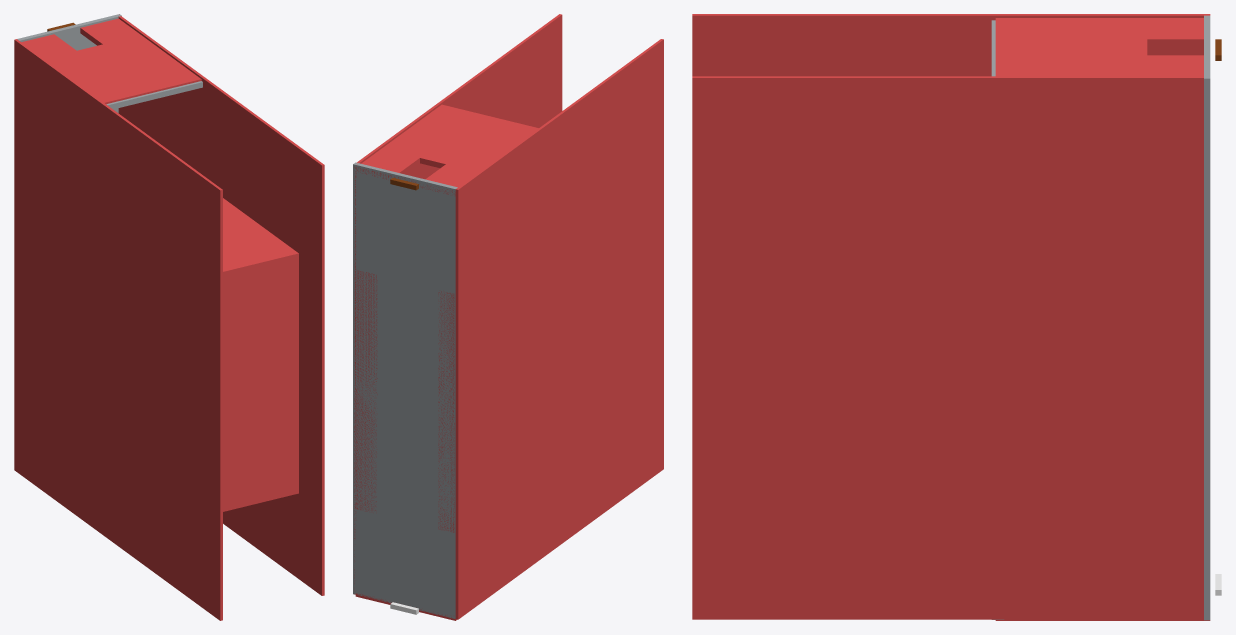
Rendered from room.obj.
3 renders of one model, left to right at view 1: azimuth 30°, elevation 25°; view 2: azimuth 150°, elevation 25°; view 3: azimuth 270°, elevation 25°, orthographic. The views are drawn at different scales.
Parts seen in each view (by area): view 1: obj_6, obj_7, obj_5, obj_3, obj_2; view 2: obj_6, obj_3, obj_5, obj_7, obj_4; view 3: obj_6, obj_5, obj_3.
Part boxes in pixels (bbox=[...]): obj_6: bbox=[14, 14, 324, 620]; obj_7: bbox=[223, 198, 298, 511]; obj_5: bbox=[21, 18, 201, 104]; obj_3: bbox=[17, 14, 121, 112]; obj_2: bbox=[106, 81, 202, 109]; obj_6: bbox=[354, 14, 663, 620]; obj_3: bbox=[353, 162, 457, 618]; obj_5: bbox=[355, 104, 538, 195]; obj_7: bbox=[355, 269, 454, 532]; obj_4: bbox=[377, 274, 438, 522]; obj_6: bbox=[692, 14, 1210, 620]; obj_5: bbox=[995, 18, 1203, 76]; obj_3: bbox=[1204, 15, 1210, 620].
Bounding box in the file's own units: 121 × 475 × 419.
